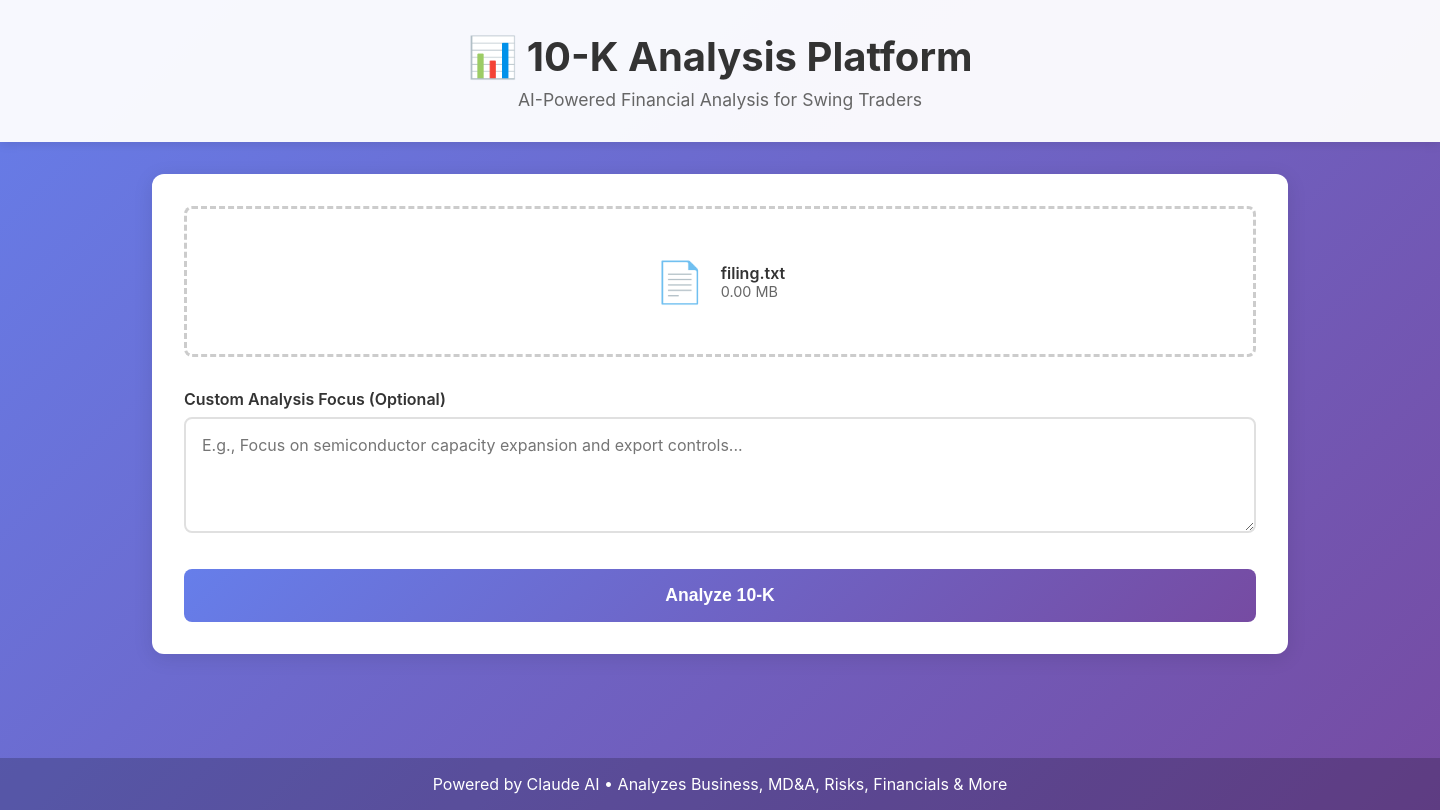
Test: shows an error when analysis fails
The image size is (1440, 810).
Earlier steps of the test are not shown.
Step 1. Click the button "Analyze 10-K" → (720, 596), box 184,569 -> 1256,622
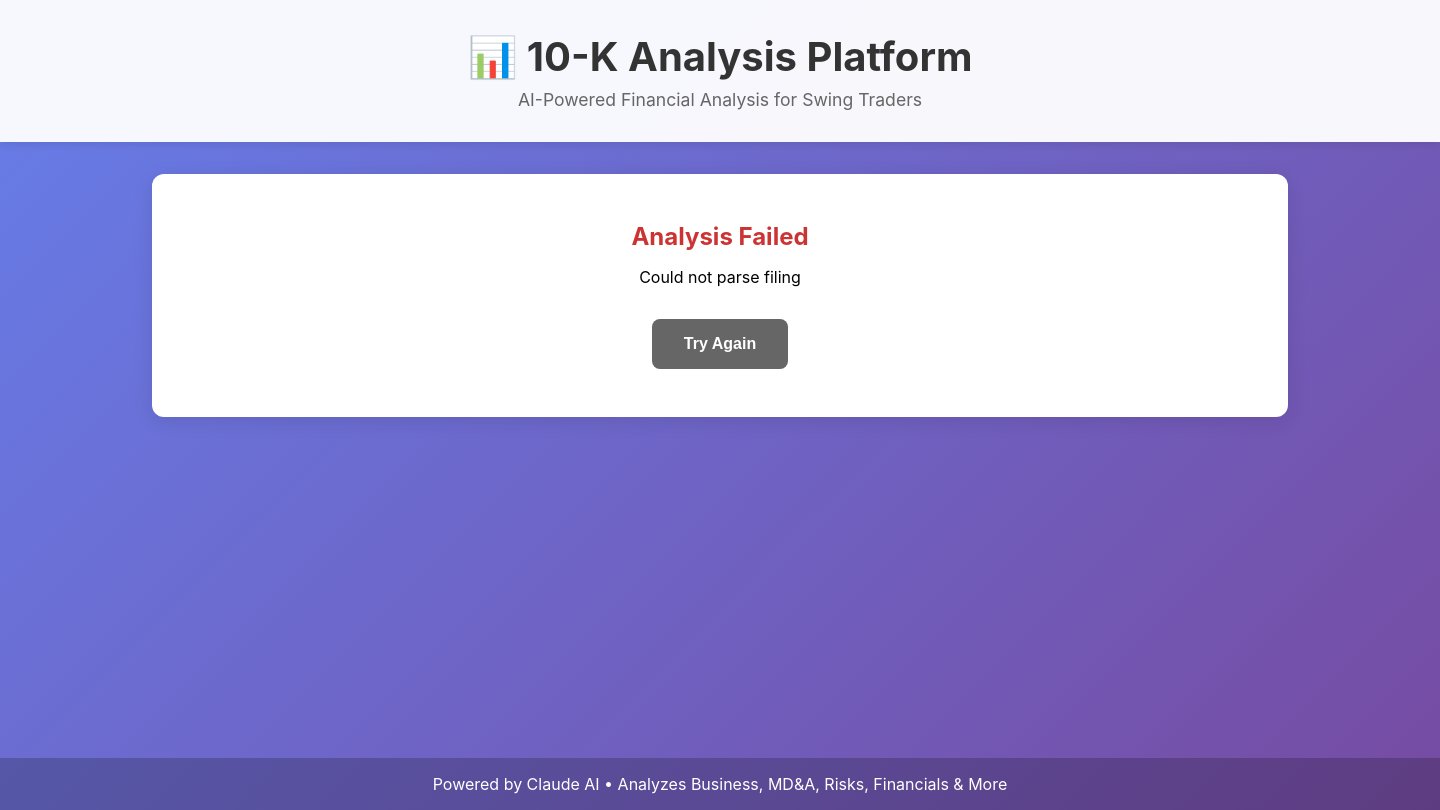
Check: the text "Could not parse filing" is shown, box 639,267 -> 801,287
